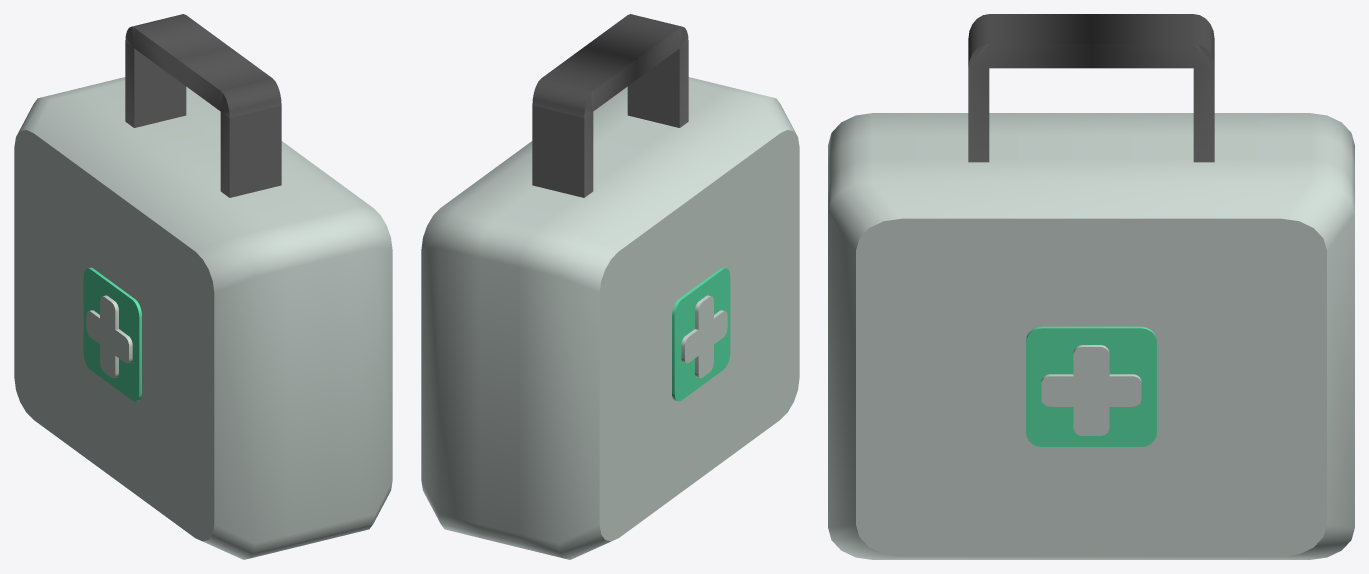
Rendered from HealthKitToGame.fbx.
3 renders of one model, left to right at view 1: azimuth 30°, elevation 25°; view 2: azimuth 150°, elevation 25°; view 3: azimuth 270°, elevation 25°, orthographic. The views are drawn at different scales.
Parts seen in each view (by area): view 1: Pack, Handle, InnerBox, Cross; view 2: Pack, Handle, InnerBox, Cross; view 3: Pack, Handle, InnerBox, Cross.
Boxes of the visible parts, x1,y1,x2,y2 form: Pack: [14, 77, 392, 559]; Handle: [125, 14, 281, 197]; InnerBox: [83, 267, 141, 401]; Cross: [86, 295, 132, 378]; Pack: [421, 77, 799, 559]; Handle: [532, 14, 688, 197]; InnerBox: [672, 267, 730, 401]; Cross: [681, 295, 727, 378]; Pack: [828, 113, 1354, 559]; Handle: [968, 14, 1214, 162]; InnerBox: [1026, 326, 1156, 446]; Cross: [1041, 345, 1141, 435].
Bounding box in the file's own units: 111 × 233 × 224.
